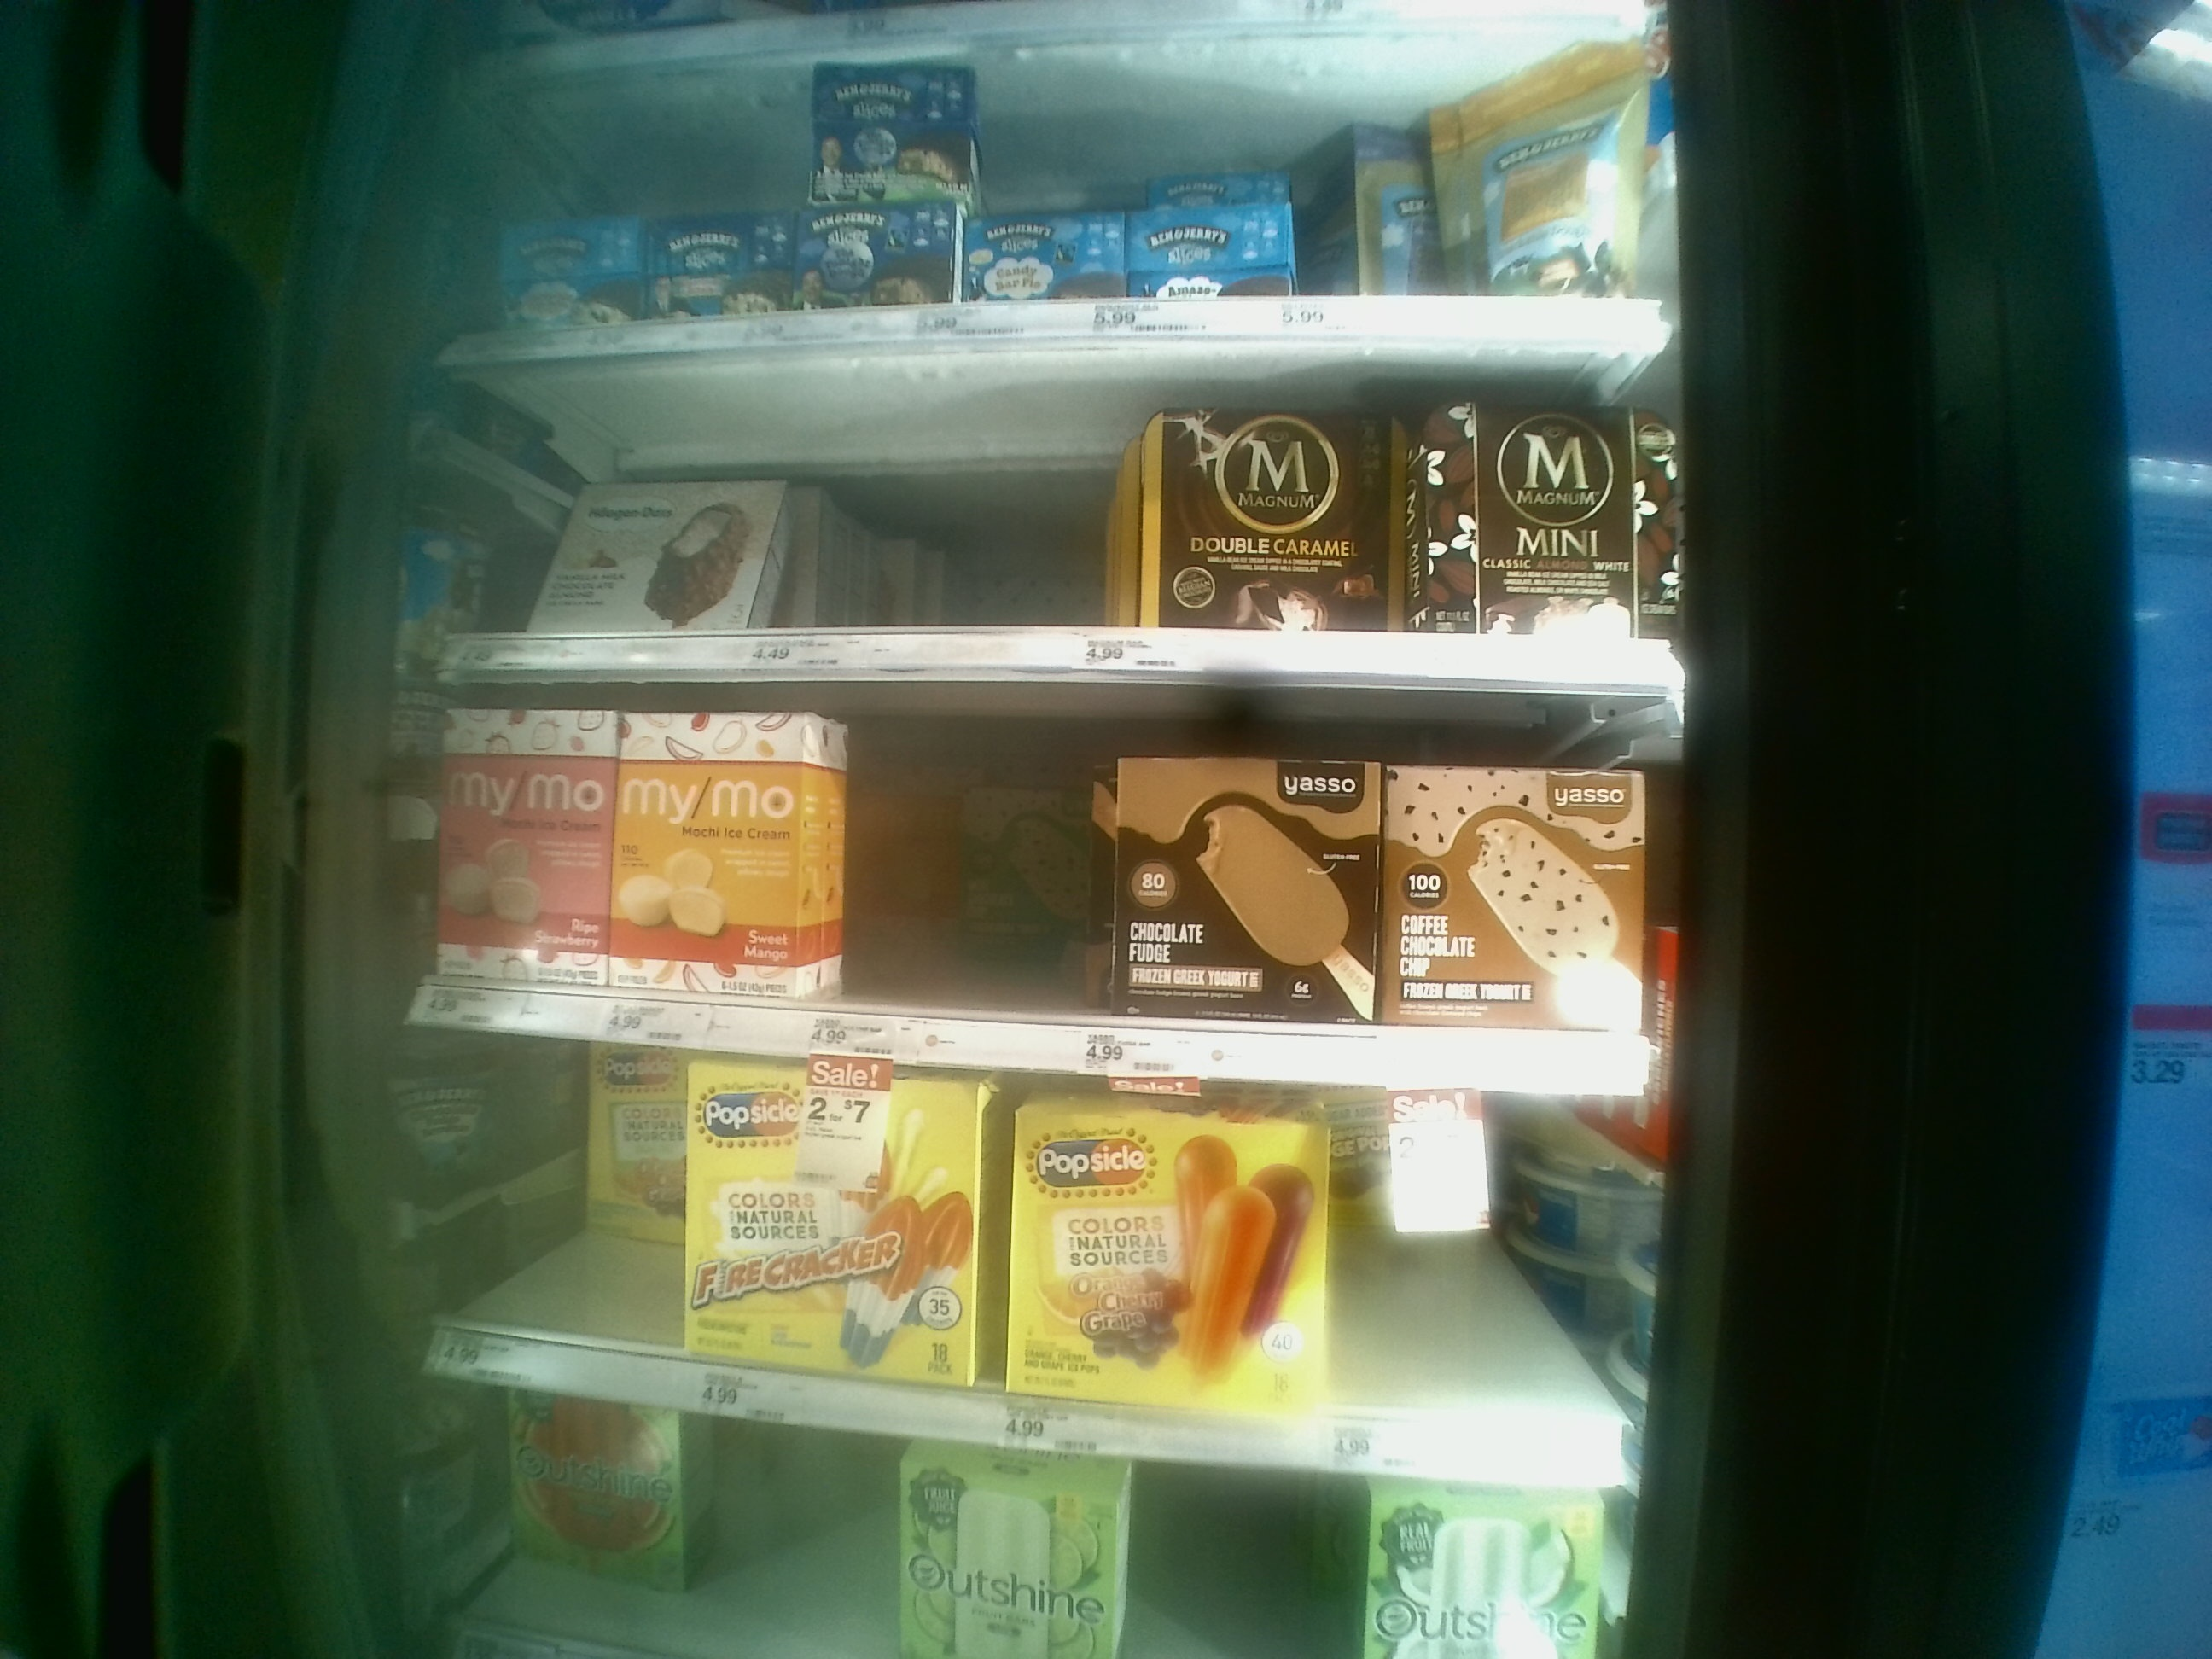shelf: (402, 1051, 1665, 1495), (420, 697, 1674, 1077), (437, 382, 1679, 694), (435, 51, 1677, 362)
